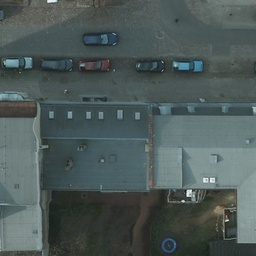car: (81, 32, 120, 48), (170, 59, 206, 75), (3, 54, 33, 70), (41, 58, 73, 72), (80, 58, 112, 72), (135, 60, 164, 72)
